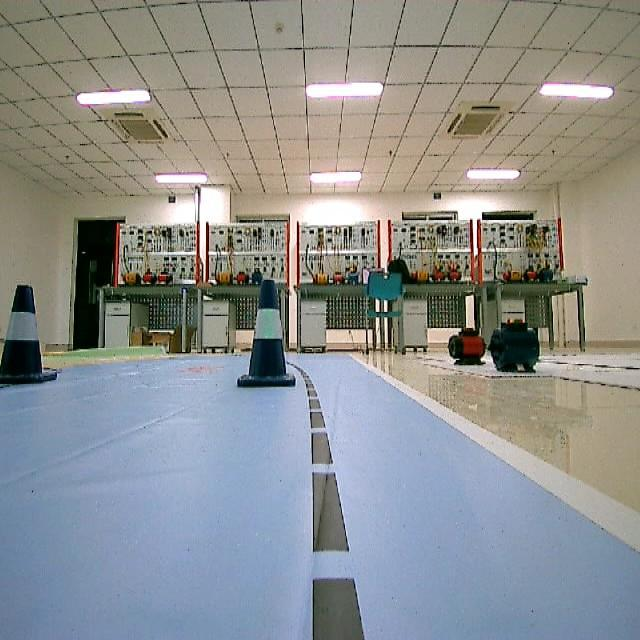obstacle: (234, 276, 296, 400), (0, 280, 62, 394)
